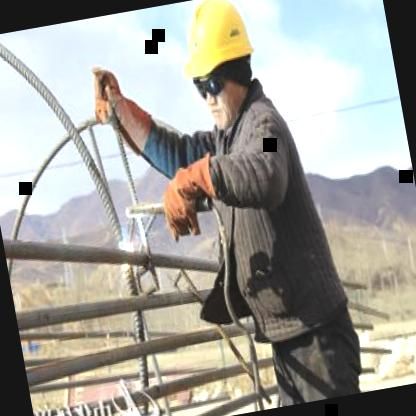helmet: (172, 0, 274, 138)
